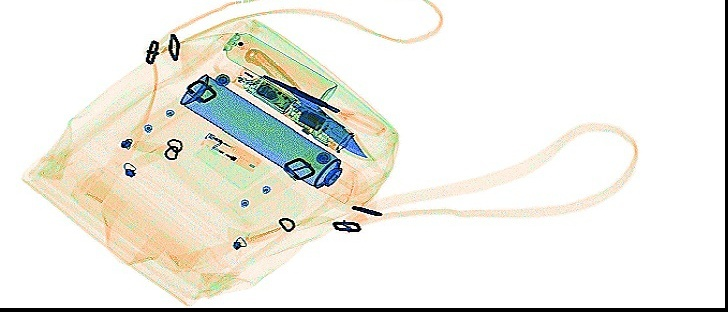knife: (240, 45, 374, 162)
lighter: (197, 131, 261, 172)
pressure: (176, 70, 363, 205), (220, 29, 336, 106)
scissors: (261, 70, 386, 137)
